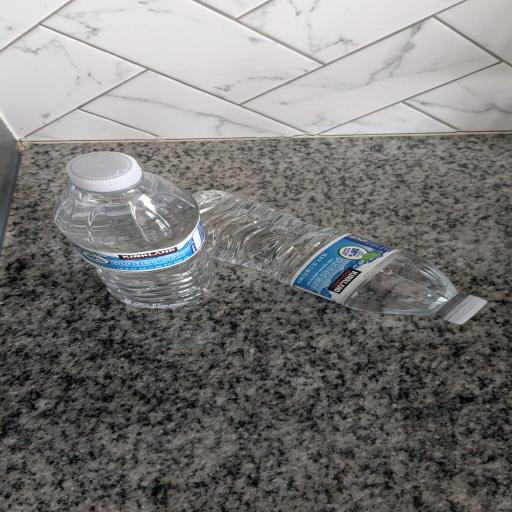waterbottle: (195, 191, 486, 324), (54, 152, 212, 308)
